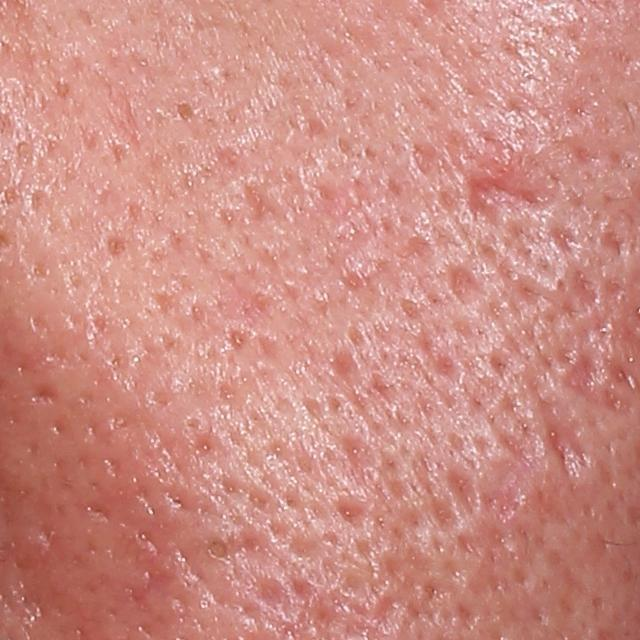atrophic_scar: (509, 242, 610, 325), (463, 160, 555, 230), (538, 389, 603, 484), (556, 342, 609, 410), (237, 175, 288, 228), (449, 467, 483, 521), (446, 262, 484, 308), (321, 344, 361, 387), (429, 491, 459, 535), (407, 140, 435, 184), (337, 497, 373, 527), (26, 382, 60, 403)
comedo: (200, 534, 231, 568), (178, 102, 195, 126)
